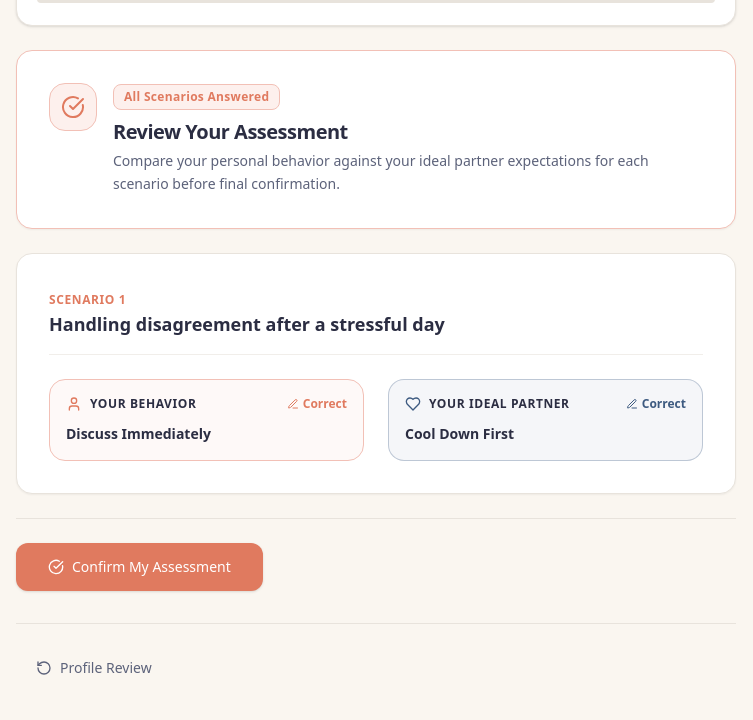
Test case: AssessmentPage Component — Phase 7.4 Requirements › 23. Confirmation POST succeeds but persisted responses are unavailable
(page scrolled)
Click the button "Confirm My Assessment" at (139, 566), box [16,542,263,590]
(page scrolled)
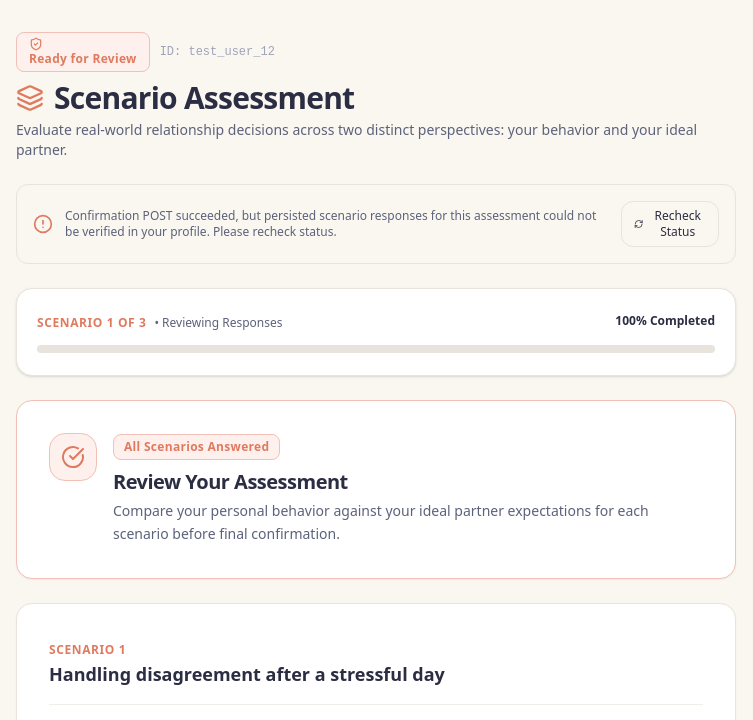
Expected: the text "persisted scenario responses for this assessment could not be verified" is shown, [65,207,596,240]
Expected: the button "Recheck Status" is shown, [621,201,719,247]
